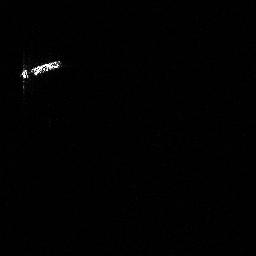ship: (22, 58, 61, 81)
